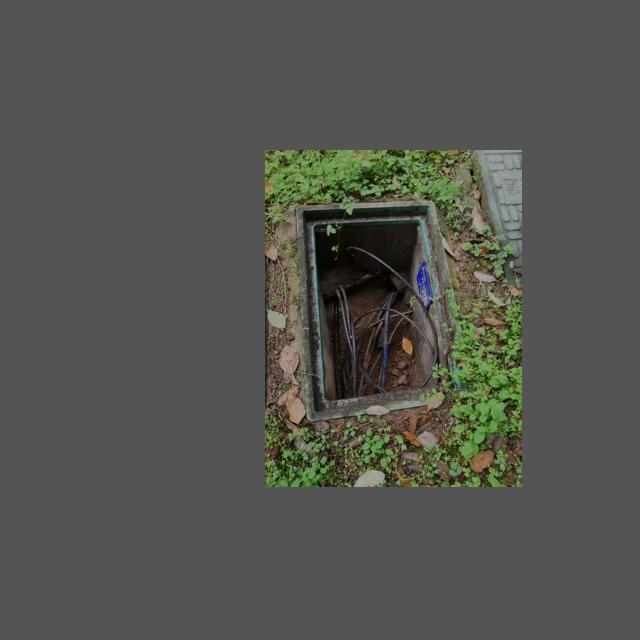lose: (296, 200, 468, 420)
